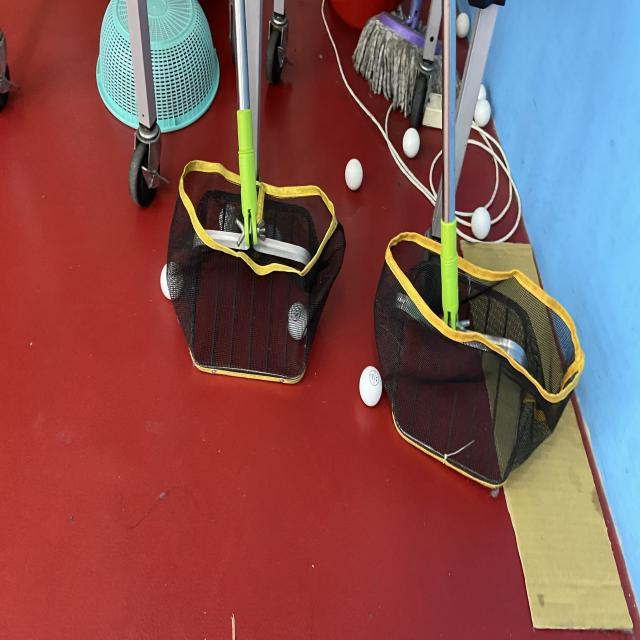ping-pong-ball: (358, 362, 384, 411), (469, 203, 492, 243), (344, 156, 366, 196), (400, 126, 422, 160)
